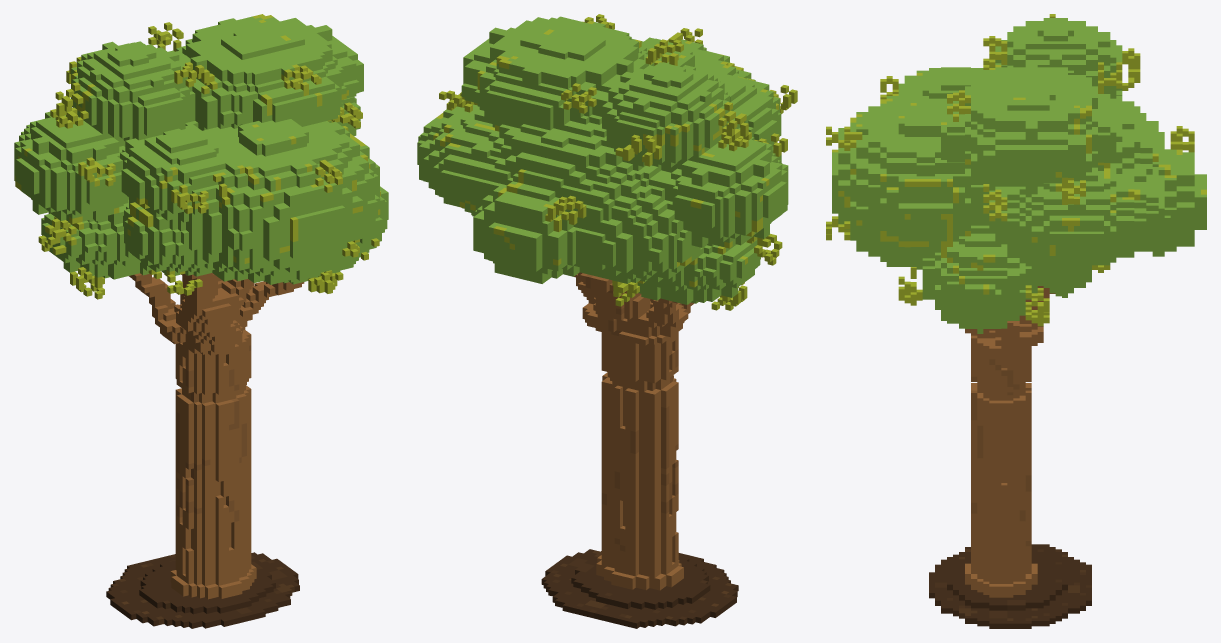
The model's file is Arbórea - Pitomba jovem.obj.
3 renders of one model, left to right at view 1: azimuth 30°, elevation 25°; view 2: azimuth 150°, elevation 25°; view 3: azimuth 270°, elevation 25°, orthographic.
Bounding box in the file's own units: 6.3 × 9.8 × 6.3.
Materials: 1 (1 with a texture image).
